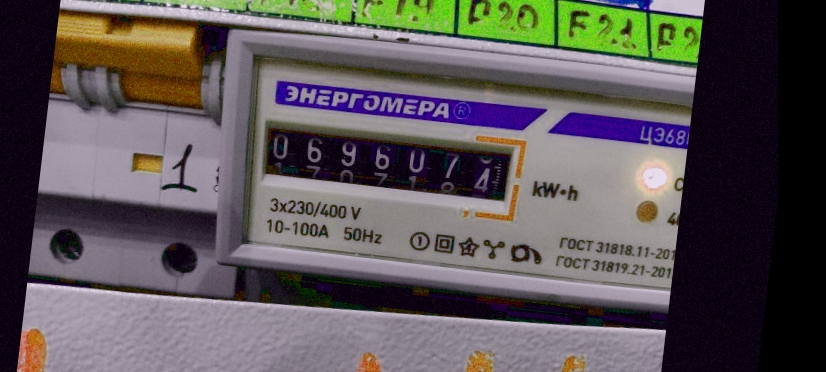0: (269, 129, 291, 160), (405, 144, 427, 173)
4: (471, 164, 492, 194)
6: (372, 140, 393, 170), (303, 134, 324, 163)
7: (439, 148, 461, 180)
9: (337, 138, 358, 168)
screen: (244, 104, 531, 223)
